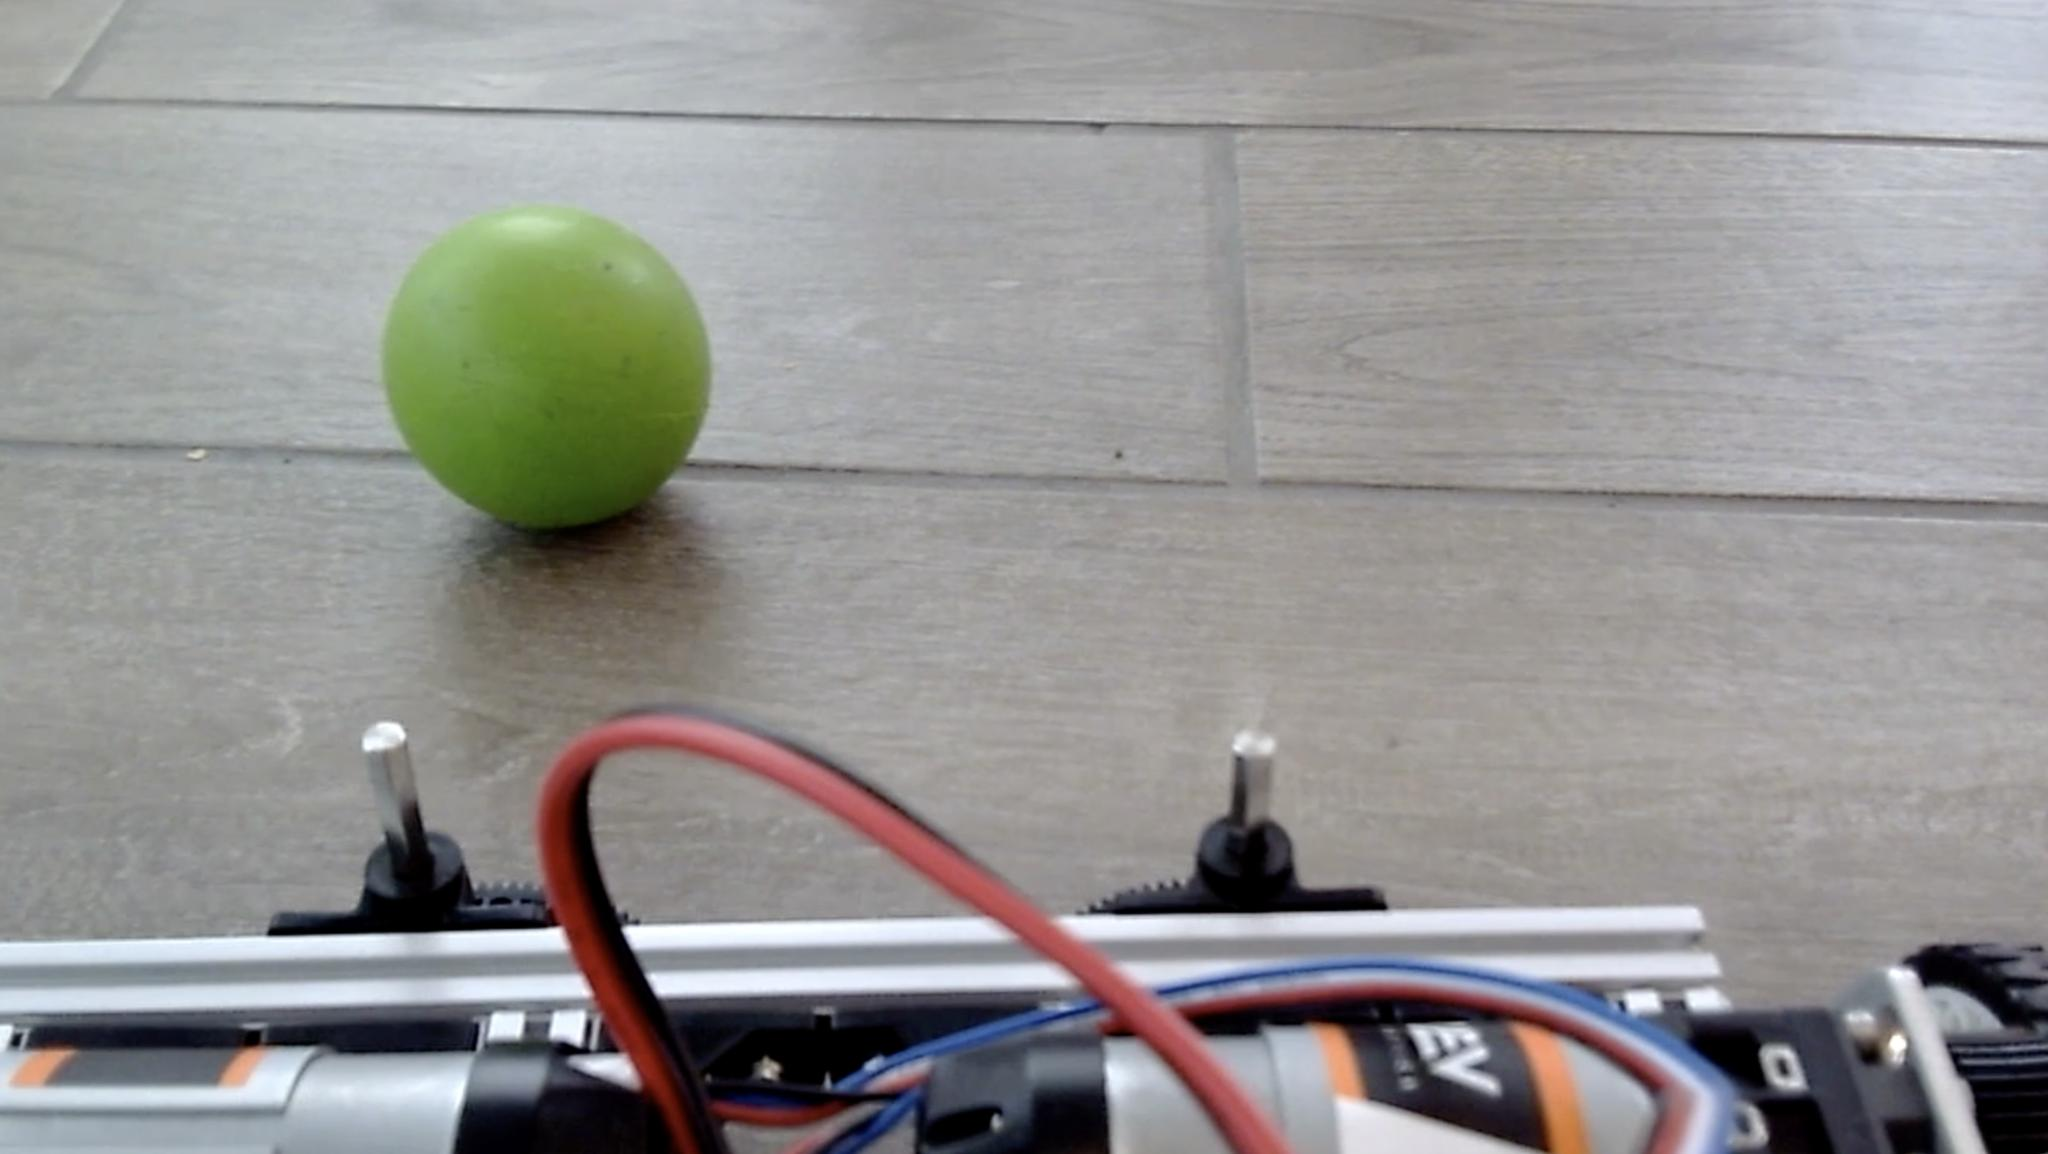greenball: (378, 198, 715, 532)
